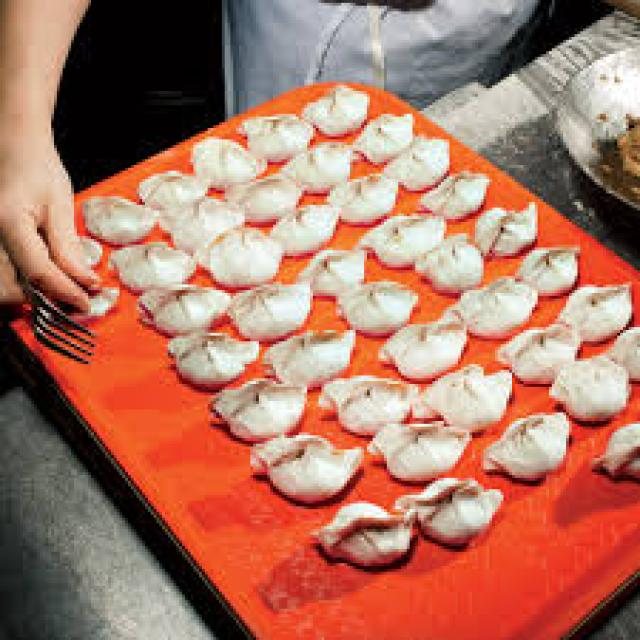Organik: (251, 428, 372, 497), (439, 276, 553, 330), (405, 485, 503, 546), (175, 332, 276, 388), (325, 372, 433, 424), (109, 223, 189, 292), (310, 507, 418, 558), (486, 412, 572, 476), (145, 171, 226, 236), (219, 377, 306, 436), (358, 207, 457, 257), (294, 241, 379, 299), (210, 223, 281, 292), (376, 422, 474, 471), (563, 349, 622, 428), (283, 130, 368, 184), (430, 368, 516, 420), (412, 234, 484, 296), (233, 287, 328, 333), (266, 195, 338, 253), (346, 274, 420, 328), (426, 156, 497, 212), (387, 325, 477, 369), (270, 333, 362, 376), (83, 194, 157, 246), (346, 105, 424, 154), (510, 246, 591, 293), (499, 330, 576, 379), (200, 128, 260, 188), (566, 276, 628, 334), (482, 202, 540, 262), (230, 168, 296, 216), (388, 136, 457, 178), (333, 177, 403, 218), (238, 115, 307, 155), (307, 92, 383, 127), (608, 324, 640, 388), (608, 424, 640, 480), (163, 295, 225, 322)
